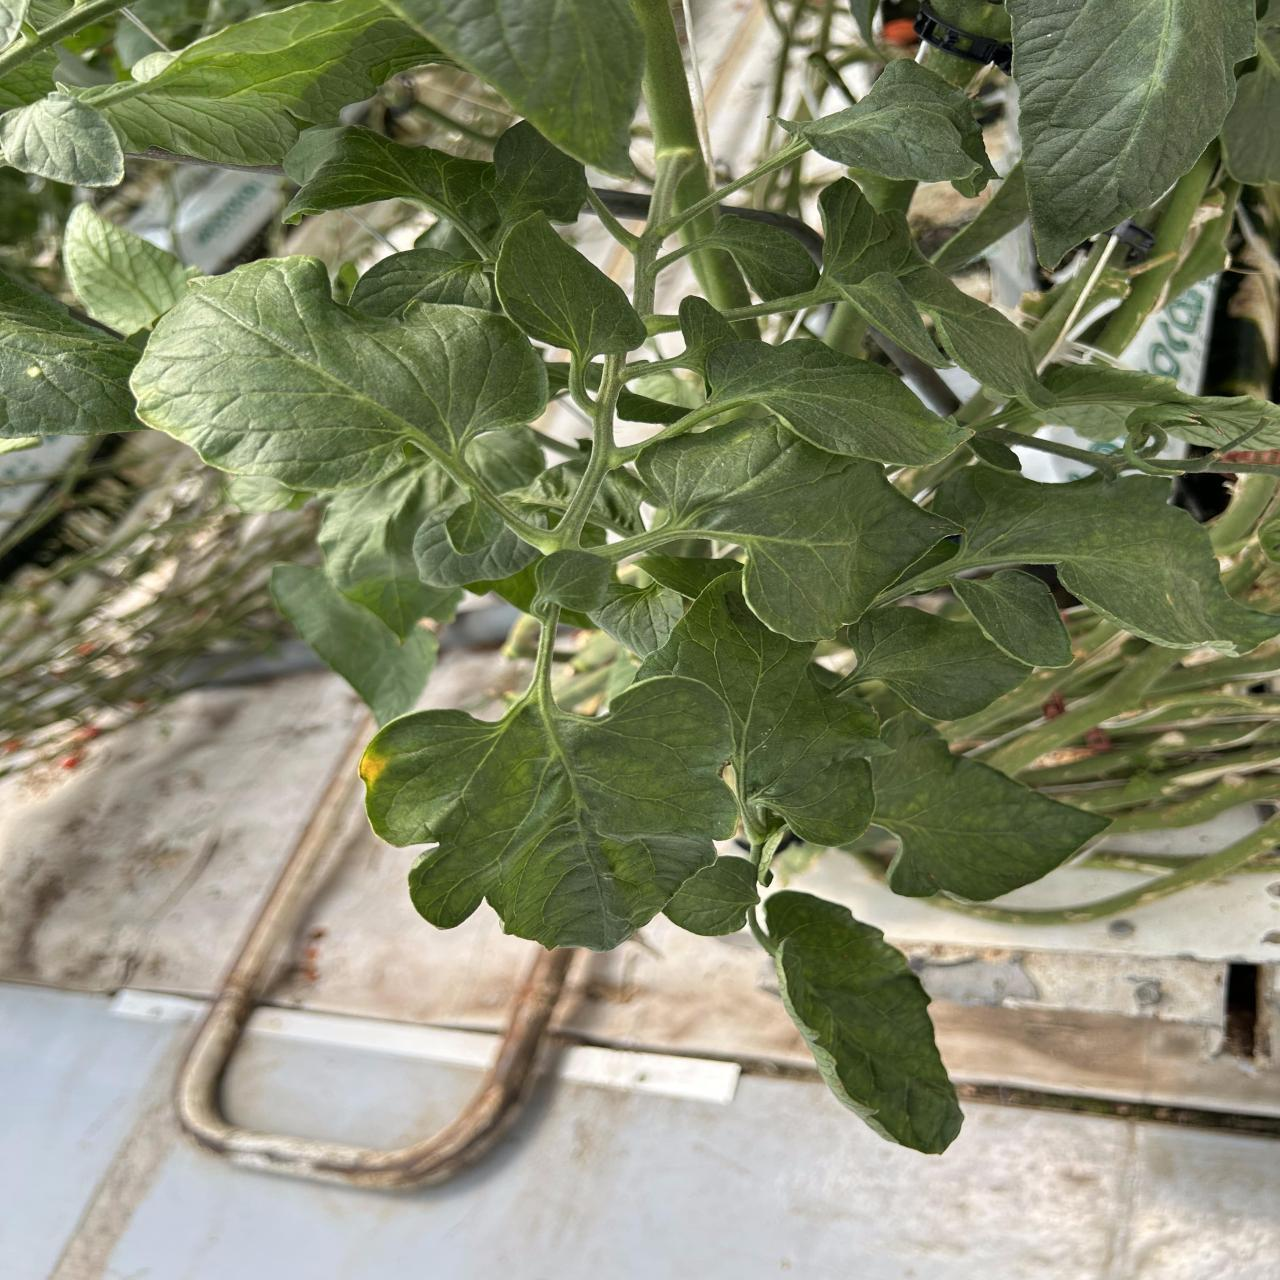Hoja: (362, 680, 738, 949), (130, 259, 549, 492), (640, 421, 956, 641), (1007, 0, 1255, 265), (640, 579, 888, 842), (961, 470, 1276, 649), (760, 891, 962, 1153), (676, 297, 971, 465), (870, 713, 1109, 901), (393, 0, 645, 177), (840, 607, 1032, 721), (495, 218, 646, 361), (0, 89, 123, 188), (951, 568, 1073, 667), (662, 856, 760, 935)
Pedunculo: (1098, 139, 1219, 353), (634, 0, 709, 219), (919, 0, 1010, 88), (849, 166, 919, 212), (693, 252, 748, 302), (823, 299, 869, 359), (679, 212, 717, 240)
